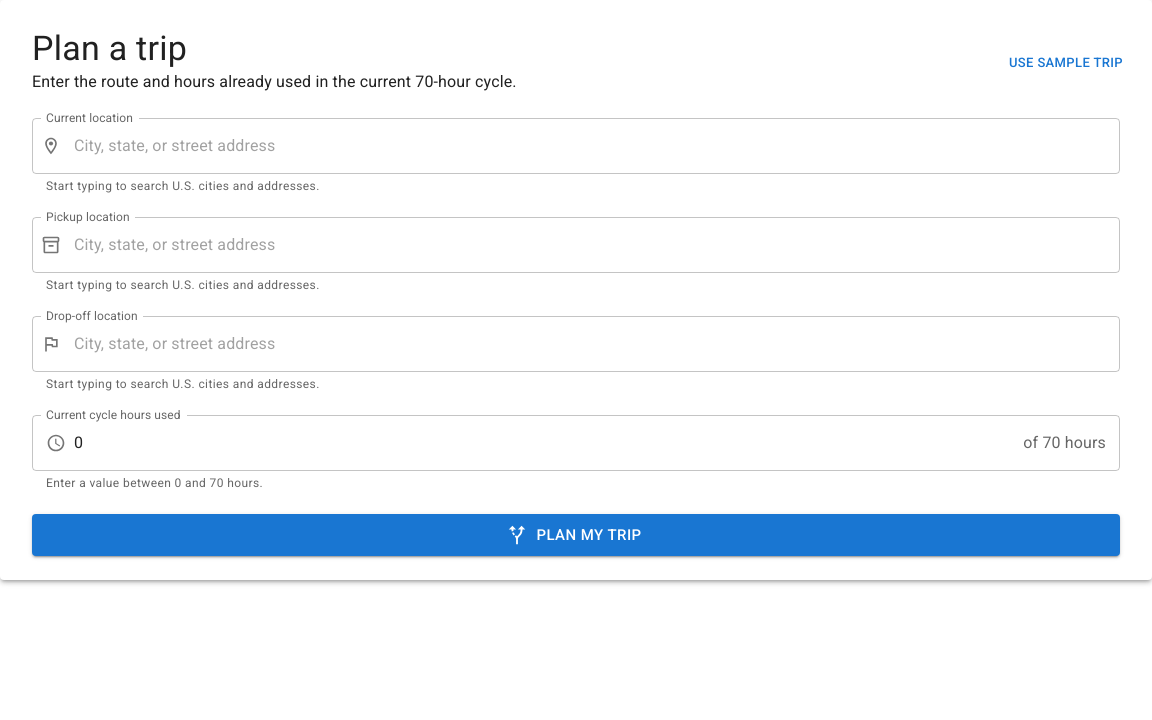
Test: location autocomplete › searches after typing and applies the selected suggestion
The image size is (1152, 720).
Type "Chic" into the dropdown labelled "Current location".
click(590, 146); type("Chic")  # box top-left (69, 127), bottom-right (1111, 165)
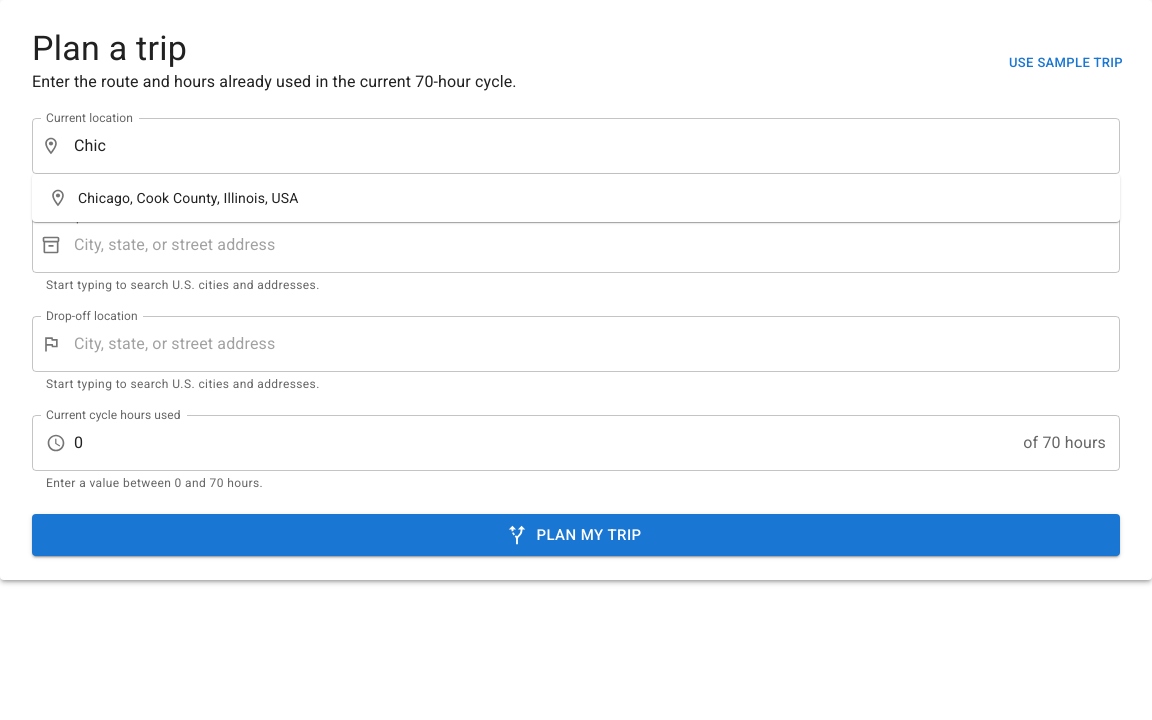
Check: the option "Chicago, Cook County, Illinois, USA" is shown
Click the option "Chicago, Cook County, Illinois, USA".
click(173, 198)  # box top-left (48, 188), bottom-right (298, 208)
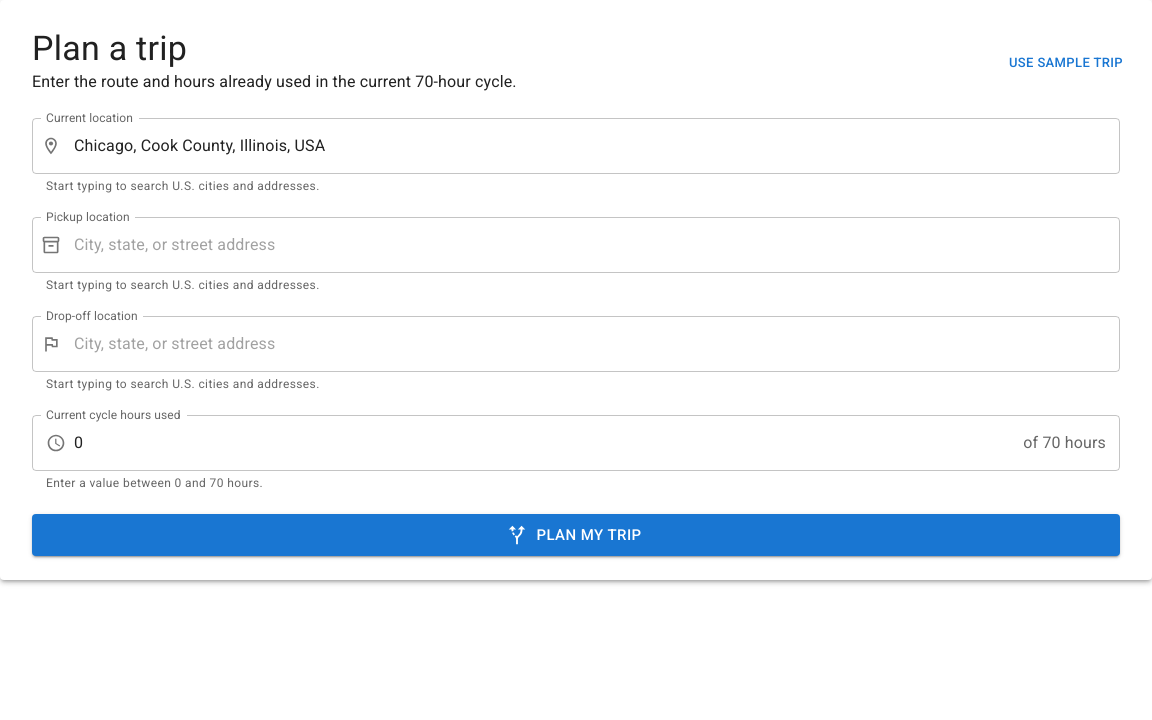
Check: the dropdown labelled "Current location" holds "Chicago, Cook County, Illinois, USA", box top-left (69, 127), bottom-right (1081, 165)
